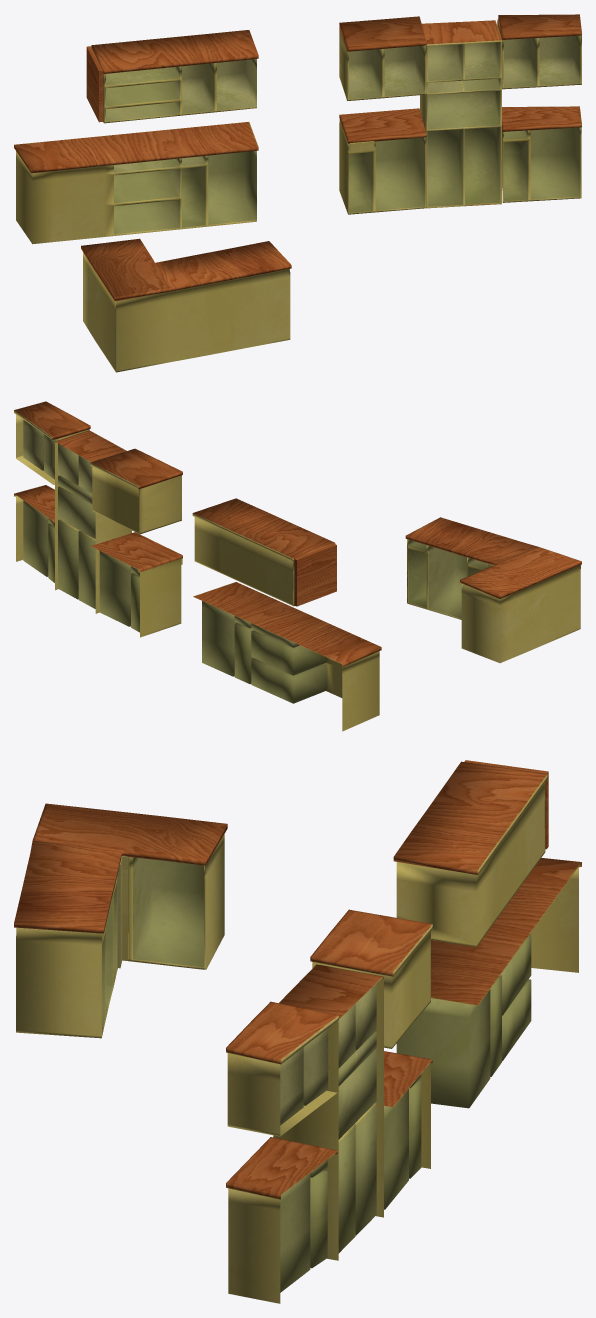
File: mesh_60_kitchen_2.glb
3 renders of one model, top to bottom at view 1: azimuth 30°, elevation 25°; view 2: azimuth 150°, elevation 25°; view 3: azimuth 270°, elevation 25°, orthographic. The views are drawn at different scales.
Visible parts, largest first — view 1: mesh_60_kitchen_2; view 2: mesh_60_kitchen_2; view 3: mesh_60_kitchen_2.
Part boxes in pixels (x1,y1,x2,y2): mesh_60_kitchen_2: [14, 14, 581, 372]; mesh_60_kitchen_2: [14, 401, 581, 731]; mesh_60_kitchen_2: [14, 760, 581, 1303].
Size of the model in its own units: 7.8 by 2.3 by 4.78.
Materials: 1 (1 with a texture image).
